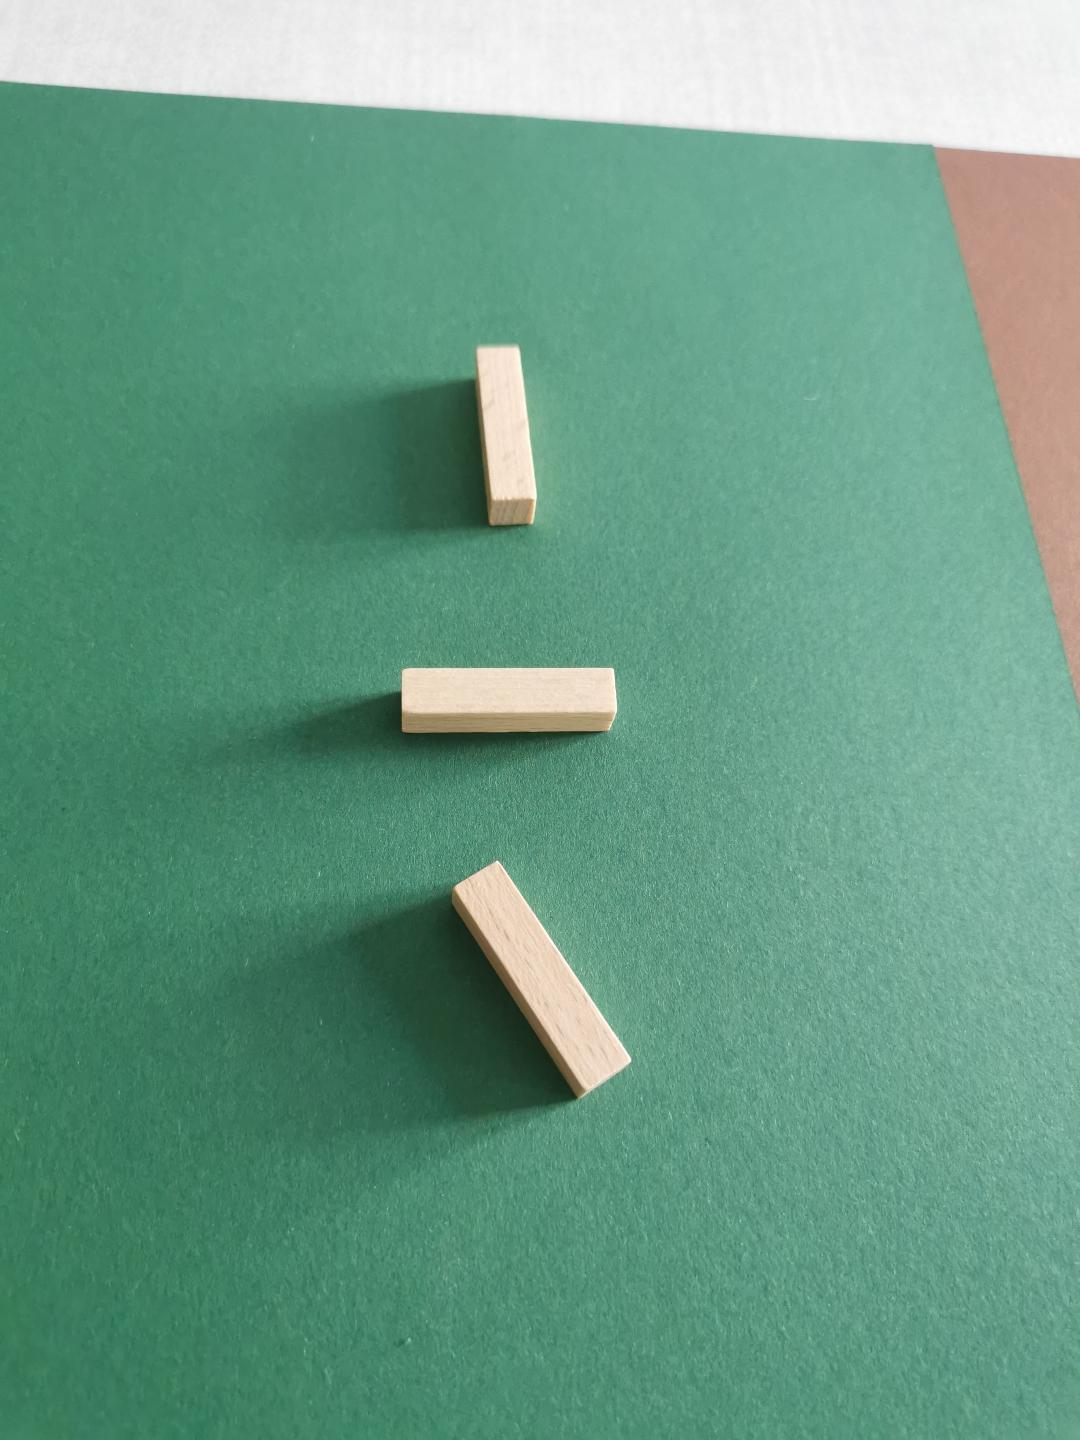jenga: (453, 861, 630, 1096), (403, 669, 616, 734), (475, 346, 538, 526)
